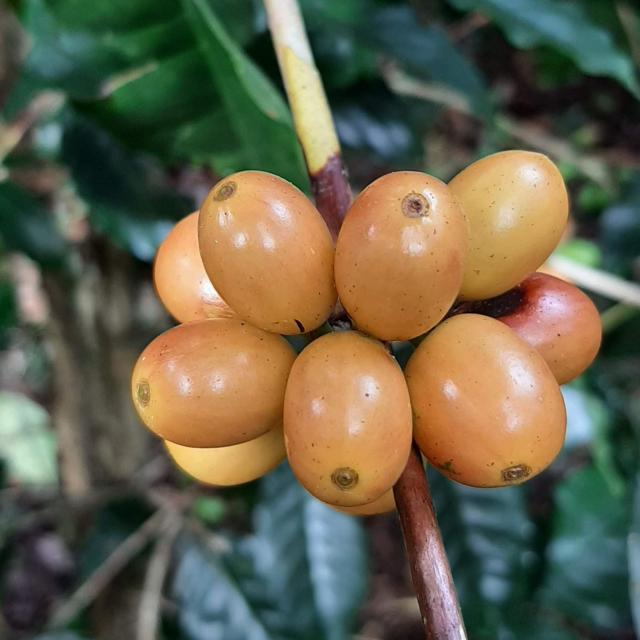red: (405, 314, 567, 489), (335, 171, 470, 341), (449, 150, 569, 301), (452, 272, 603, 386)
